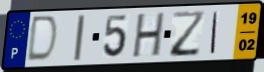5: (100, 13, 130, 59)
D: (25, 15, 60, 65)
H: (130, 11, 167, 60)
I: (73, 13, 87, 62), (209, 10, 220, 55)
Z: (169, 9, 207, 59)
